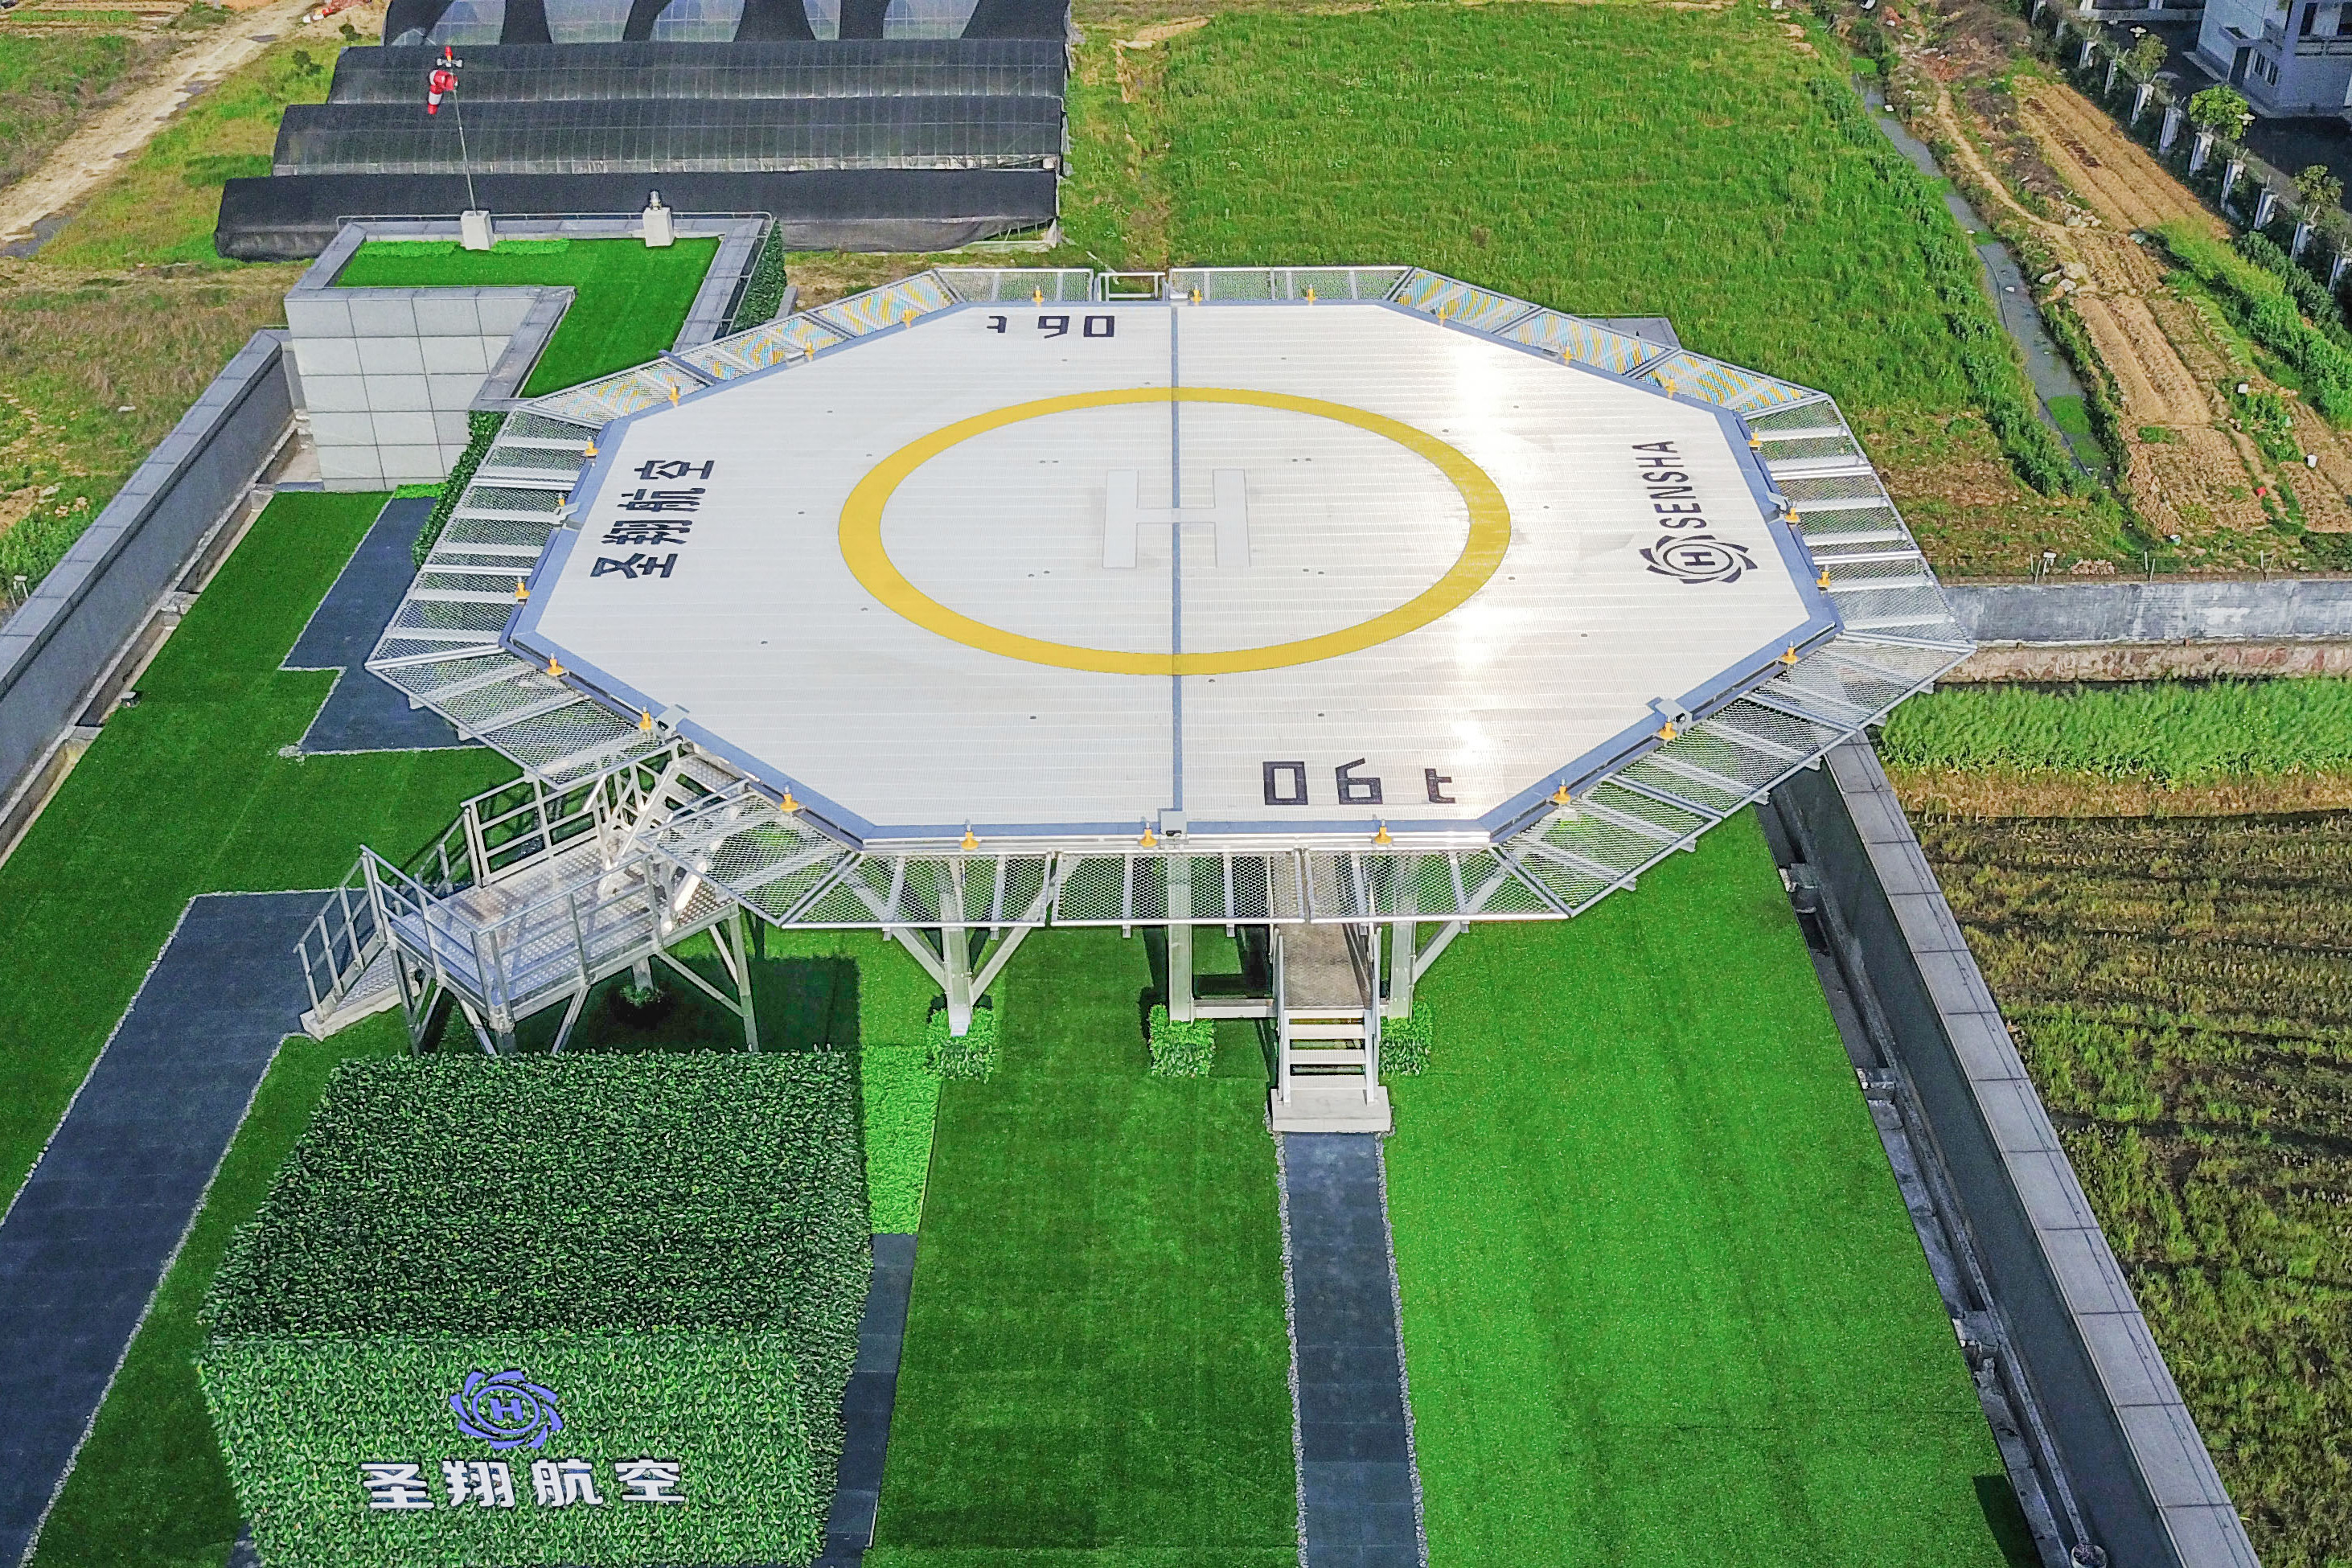H: (1101, 467, 1255, 572)
